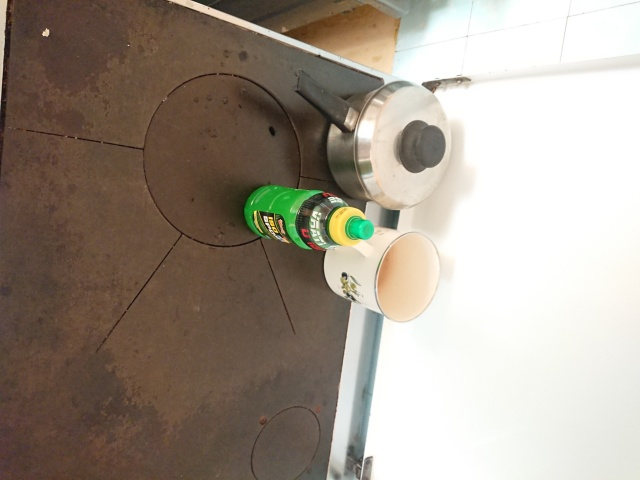Vindi Iso Sport Lemon-Grapefruit 500mL: (241, 182, 376, 253)
